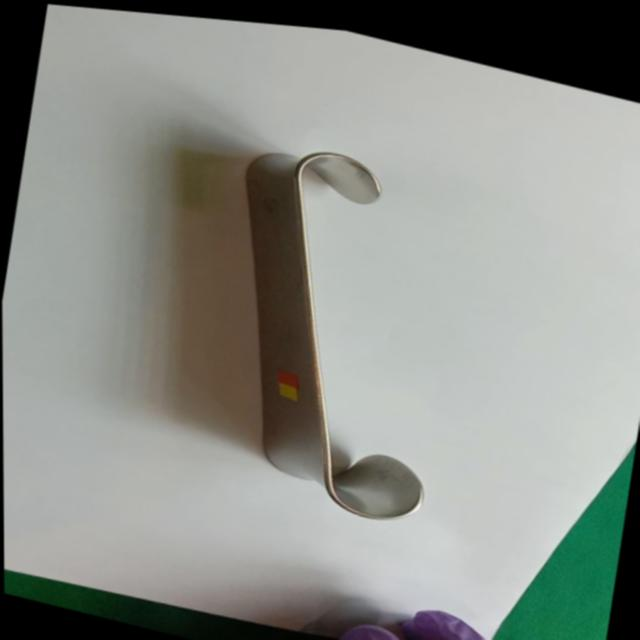CheekRetractor: (188, 122, 479, 533)
